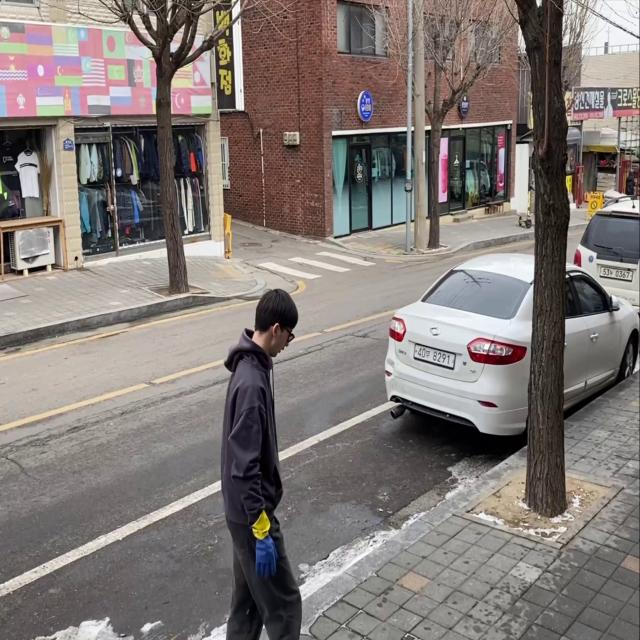gloved_hand: (252, 534, 282, 577)
